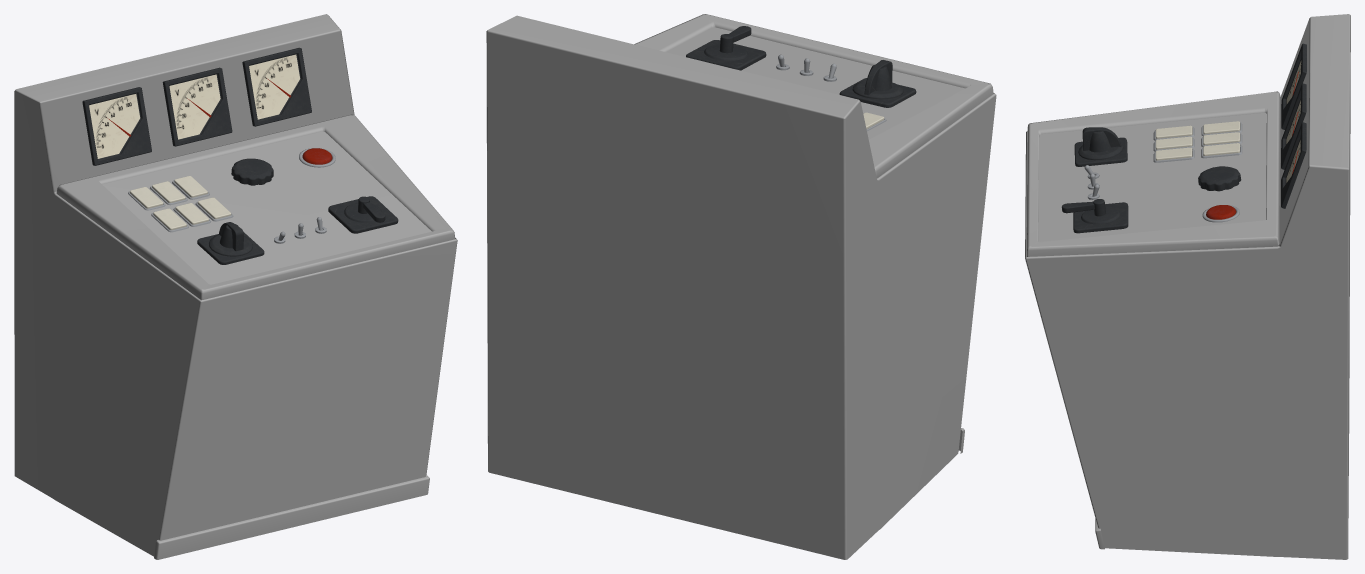
File: CTRLPanelLab.fbx
3 views of the same model, side by side, from view 1: azimuth 30°, elevation 25°; view 2: azimuth 150°, elevation 25°; view 3: azimuth 270°, elevation 25° (orthographic). The views are drawn at different scales.
Parts seen in each view (by area): view 1: CTRLPanelLab, GaugeQuad4, GaugeQuad1, GaugeQuad2, Buttons05, GaugeQuad3, Knob06, Knob04, Knob05, RoundButton1; view 2: CTRLPanelLab, Knob04, Knob06; view 3: CTRLPanelLab, Buttons05, Knob06, Knob04, GaugeQuad4, GaugeQuad1, GaugeQuad2, Knob05, RoundButton1.
Boxes of the visible parts, x1,y1,x2,y2 form: CTRLPanelLab: (14, 14, 457, 559); GaugeQuad4: (242, 47, 311, 126); GaugeQuad1: (162, 67, 232, 146); GaugeQuad2: (82, 87, 151, 165); Buttons05: (128, 176, 233, 232); GaugeQuad3: (82, 88, 145, 164); Knob06: (328, 196, 398, 233); Knob04: (197, 222, 264, 264); Knob05: (231, 158, 273, 185); RoundButton1: (299, 148, 335, 167); CTRLPanelLab: (486, 14, 996, 559); Knob04: (839, 60, 916, 107); Knob06: (686, 26, 766, 70); CTRLPanelLab: (1025, 14, 1350, 559); Buttons05: (1153, 121, 1242, 162); Knob06: (1061, 199, 1128, 233); Knob04: (1074, 127, 1127, 166); GaugeQuad4: (1281, 122, 1306, 208); GaugeQuad1: (1281, 83, 1306, 169); GaugeQuad2: (1281, 43, 1306, 129); Knob05: (1198, 166, 1241, 191); RoundButton1: (1202, 205, 1239, 222).
Bounding box in the file's own units: 113 × 133 × 100.
